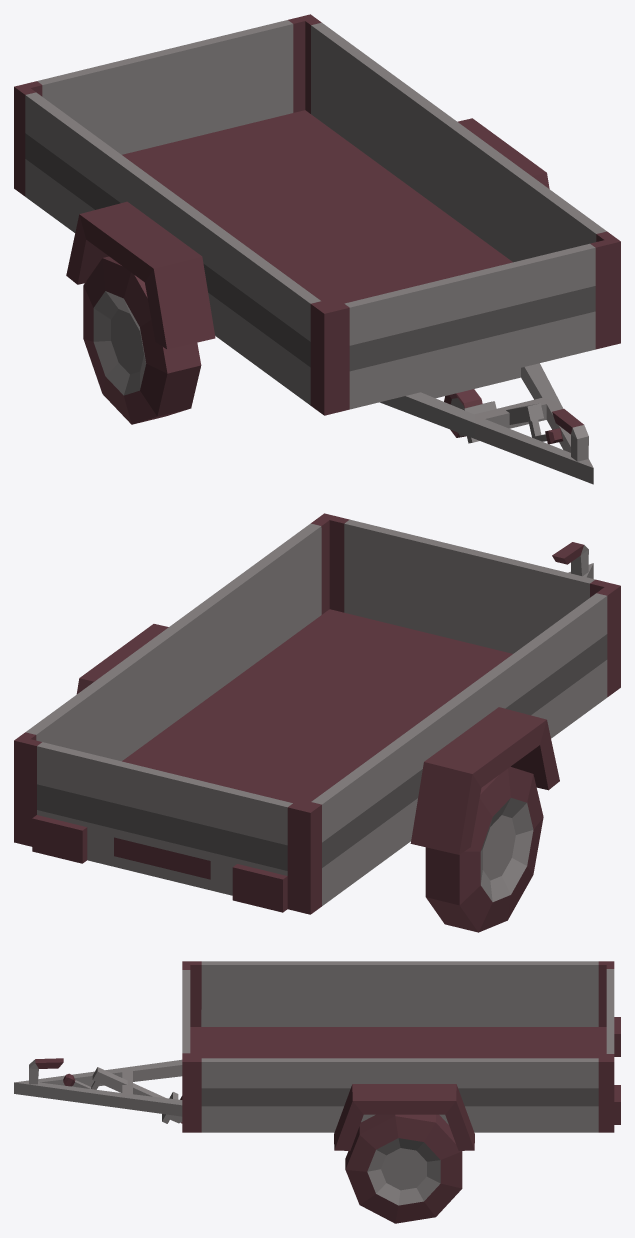
The model's file is trailer-small.fbx.
The picture shows the model from 3 angles, top to bottom: view 1: azimuth 30°, elevation 25°; view 2: azimuth 150°, elevation 25°; view 3: azimuth 270°, elevation 25°; orthographic projection. The views are drawn at different scales.
Visible parts, largest first — view 1: trailer-small-base, trailer-small-wheel_R; view 2: trailer-small-base, trailer-small-wheel_R; view 3: trailer-small-base, trailer-small-wheel_L.
Boxes of the visible parts, x1,y1,x2,y2 form: trailer-small-base: [14, 14, 620, 484]; trailer-small-wheel_R: [83, 256, 201, 424]; trailer-small-base: [14, 513, 620, 914]; trailer-small-wheel_R: [425, 766, 543, 932]; trailer-small-base: [14, 961, 620, 1150]; trailer-small-wheel_L: [345, 1114, 462, 1223].
Bounding box in the file's own units: 1.47 × 0.7578 × 2.81.
